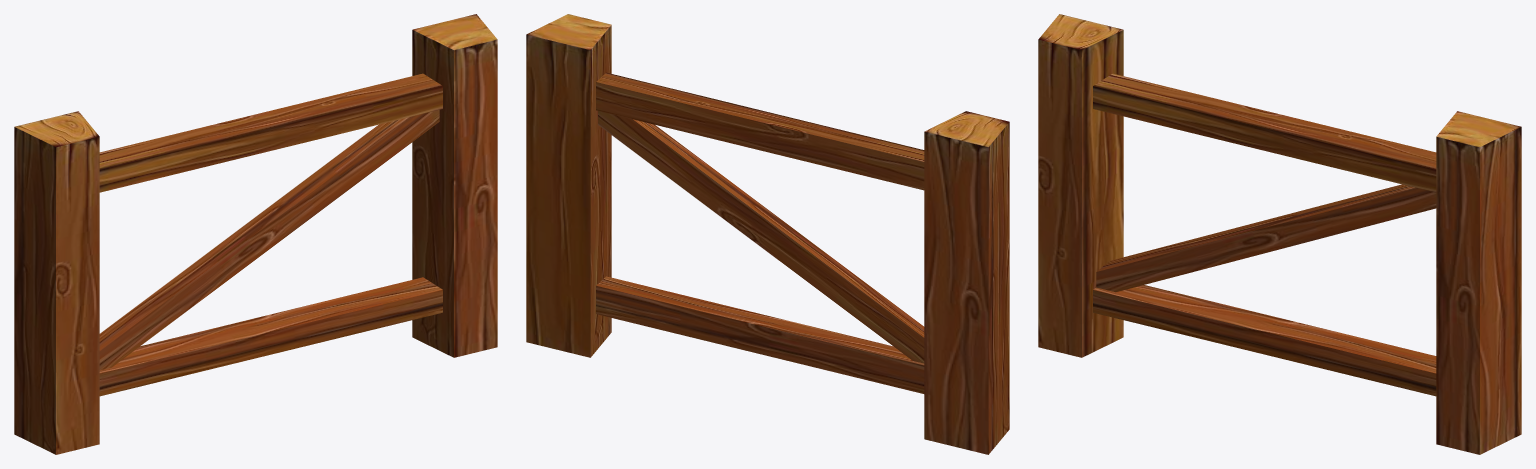
File: fence4.fbx
The picture shows the model from 3 angles, left to right: view 1: azimuth 30°, elevation 25°; view 2: azimuth 150°, elevation 25°; view 3: azimuth 330°, elevation 25°; orthographic projection.
Visible parts, largest first — view 1: zabor_04; view 2: zabor_04; view 3: zabor_04.
Part boxes in pixels (<box>): zabor_04: <box>14,14,497,454</box>; zabor_04: <box>526,14,1009,454</box>; zabor_04: <box>1038,14,1521,454</box>.
Bounding box in the file's own units: 1398 × 889 × 165.
1 material, 1 textured.
